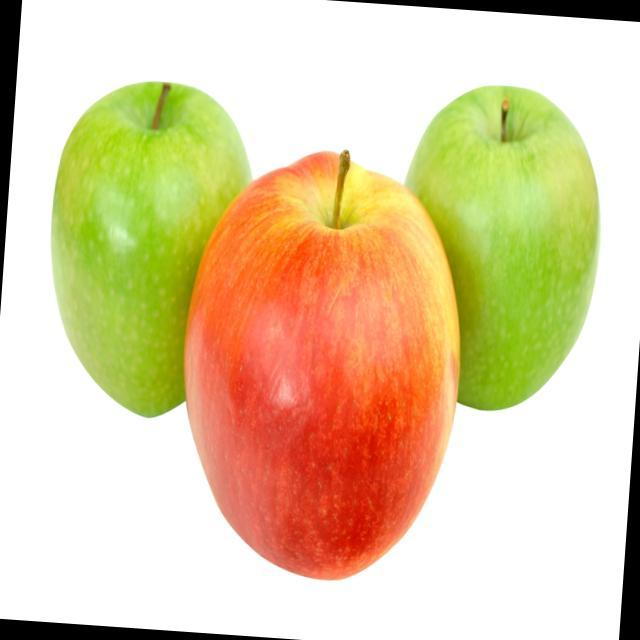APPLE: (176, 108, 475, 585), (24, 61, 266, 425), (394, 78, 608, 424)
WATERMELON: (175, 94, 472, 592), (38, 59, 228, 394)
